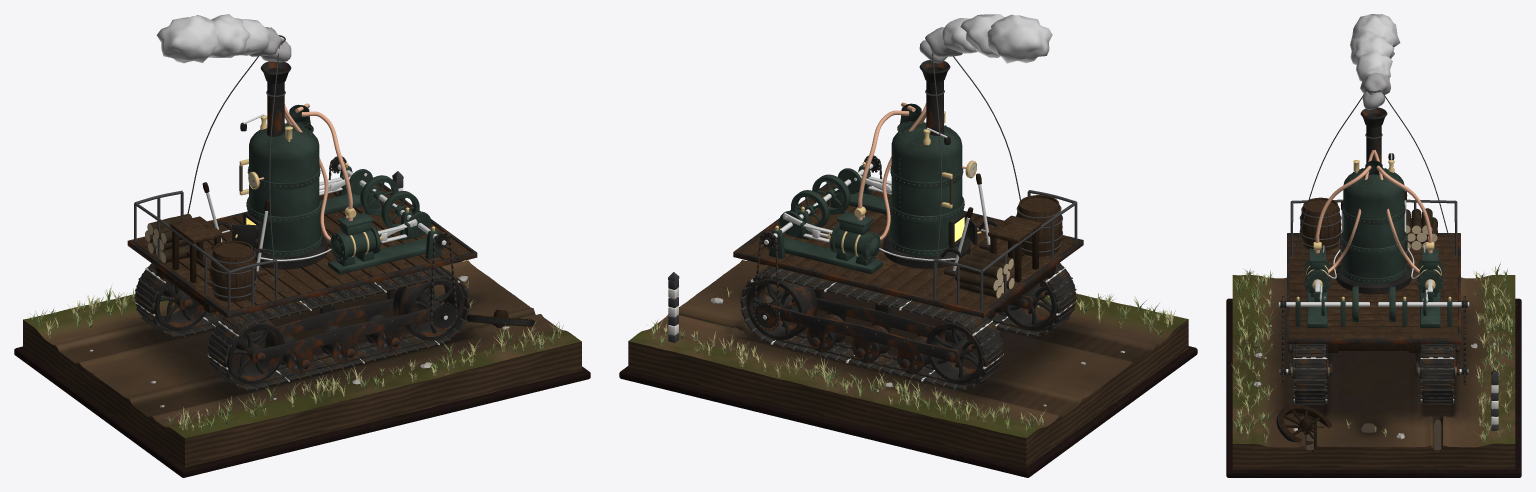
File: blinov-samohod.glb
3 views of the same model, side by side, from view 1: azimuth 30°, elevation 25°; view 2: azimuth 150°, elevation 25°; view 3: azimuth 270°, elevation 25° (orthographic). The views are drawn at different scales.
Visible parts, largest first — view 1: doroga--zemlya-dorogi, doroga--zemlya-srez, hodovaya--chugun, rama--derevo-nastil, kotel--kraska-kotla, gusenicy--zvenya-gusenicy, parovye-mashiny--kraska-kotla, doroga--derevo-podstavka, kotel--dym, rama--chugun, kotel--chugun, doroga--trava-suhaya (+12 smaller); view 2: doroga--zemlya-dorogi, doroga--zemlya-srez, hodovaya--chugun, rama--derevo-nastil, kotel--kraska-kotla, gusenicy--zvenya-gusenicy, parovye-mashiny--kraska-kotla, doroga--derevo-podstavka, kotel--dym, rama--chugun, kotel--chugun, doroga--trava-suhaya (+12 smaller); view 3: doroga--zemlya-dorogi, rama--derevo-nastil, doroga--zemlya-srez, kotel--kraska-kotla, doroga--derevo-podstavka, parovye-mashiny--kraska-kotla, gusenicy--zvenya-gusenicy, doroga--trava-suhaya, kotel--dym, doroga--trava-zelenaya, kotel--chugun, rama--chugun (+16 smaller).
Boxes of the visible parts, <box> form: doroga--zemlya-dorogi: <box>23,260,581,438</box>; doroga--zemlya-srez: <box>23,320,581,467</box>; hodovaya--chugun: <box>154,278,463,384</box>; rama--derevo-nastil: <box>133,184,470,311</box>; kotel--kraska-kotla: <box>246,104,321,257</box>; gusenicy--zvenya-gusenicy: <box>134,263,470,390</box>; parovye-mashiny--kraska-kotla: <box>321,165,441,274</box>; doroga--derevo-podstavka: <box>14,346,590,477</box>; kotel--dym: <box>156,14,269,63</box>; rama--chugun: <box>127,182,477,318</box>; kotel--chugun: <box>232,61,327,269</box>; doroga--trava-suhaya: <box>46,281,563,430</box>; doroga--zemlya-dorogi: <box>628,260,1188,437</box>; doroga--zemlya-srez: <box>628,319,1188,467</box>; hodovaya--chugun: <box>746,278,1056,383</box>; rama--derevo-nastil: <box>739,183,1078,311</box>; kotel--kraska-kotla: <box>889,103,964,256</box>; gusenicy--zvenya-gusenicy: <box>740,262,1076,390</box>; parovye-mashiny--kraska-kotla: <box>769,165,889,273</box>; doroga--derevo-podstavka: <box>619,346,1197,477</box>; kotel--dym: <box>942,14,1052,63</box>; rama--chugun: <box>733,181,1083,317</box>; kotel--chugun: <box>883,60,977,268</box>; doroga--trava-suhaya: <box>651,287,1175,425</box>; doroga--zemlya-dorogi: <box>1232,274,1515,452</box>; rama--derevo-nastil: <box>1289,197,1458,338</box>; doroga--zemlya-srez: <box>1232,443,1515,469</box>; kotel--kraska-kotla: <box>1341,160,1406,283</box>; doroga--derevo-podstavka: <box>1226,298,1521,477</box>; parovye-mashiny--kraska-kotla: <box>1295,249,1452,327</box>; gusenicy--zvenya-gusenicy: <box>1295,344,1452,405</box>; doroga--trava-suhaya: <box>1231,268,1514,442</box>; kotel--dym: <box>1350,14,1400,81</box>; doroga--trava-zelenaya: <box>1233,262,1516,441</box>; kotel--chugun: <box>1336,107,1411,294</box>; rama--chugun: <box>1287,233,1460,350</box>.
Size of the model in its own units: 4.02 by 3.55 by 2.88.
24 materials, 10 textured.
